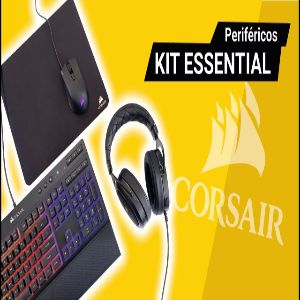headset: (95, 106, 176, 226)
keyboard: (1, 137, 122, 299)
mouse: (53, 59, 91, 118)
